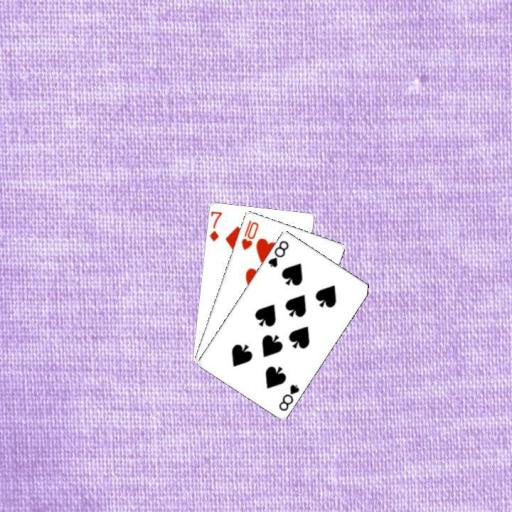10H: (238, 217, 260, 251)
7D: (207, 208, 224, 243)
8S: (275, 381, 301, 413), (265, 237, 290, 269)
